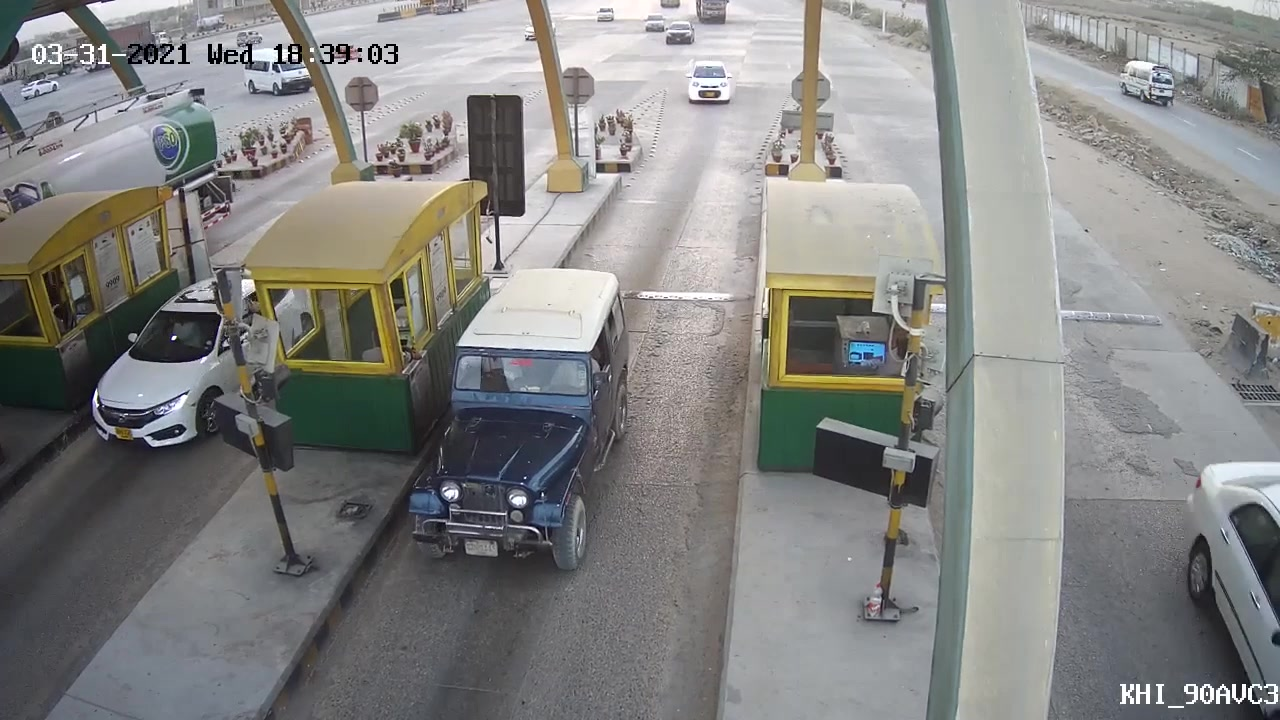F1: (403, 262, 640, 574)
